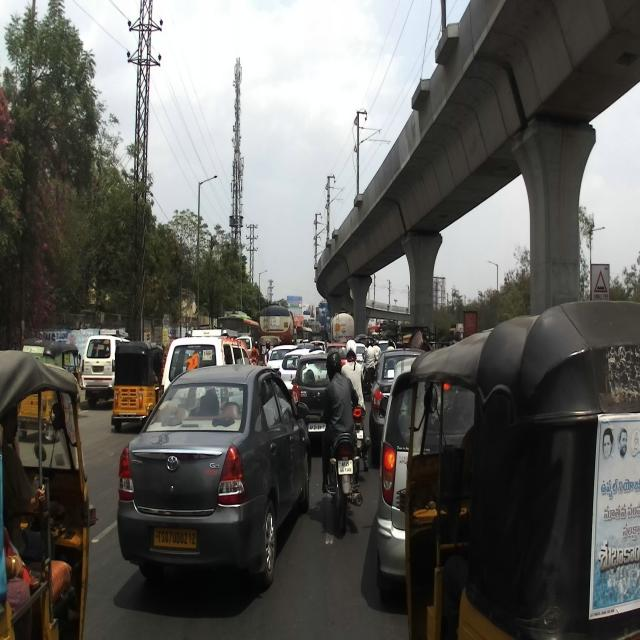Car: (369, 346, 431, 464)
Car_Hyundai: (375, 356, 443, 605)
Car_Toyota: (117, 365, 311, 592)
autorickshaw: (397, 299, 639, 637), (1, 350, 98, 639), (111, 338, 165, 435)
motorcycle_Honda: (324, 397, 363, 538)
